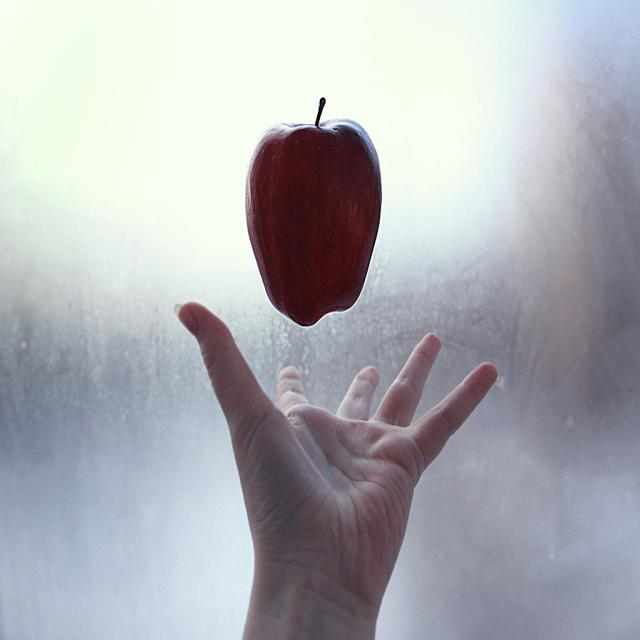Healty Apple: (237, 100, 386, 330)
